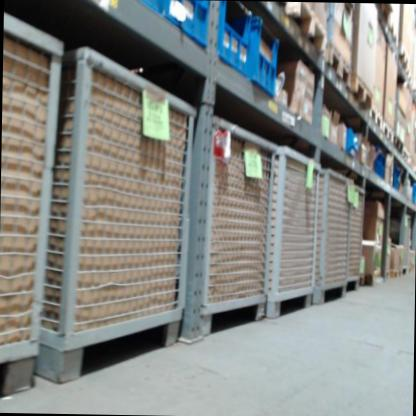pallet: (269, 1, 329, 56), (317, 41, 355, 89), (350, 75, 374, 118), (378, 8, 399, 49), (366, 102, 386, 134), (395, 43, 412, 77), (363, 267, 384, 287), (383, 123, 395, 149), (390, 266, 402, 279)
small_load_carrier: (203, 2, 254, 75), (244, 12, 282, 94), (163, 1, 217, 51), (130, 0, 164, 17), (390, 161, 400, 192), (374, 144, 381, 175), (380, 150, 386, 182)
stillage: (32, 27, 201, 389), (199, 112, 277, 336), (266, 137, 324, 322), (309, 155, 354, 309), (345, 181, 369, 300), (396, 211, 413, 273)
